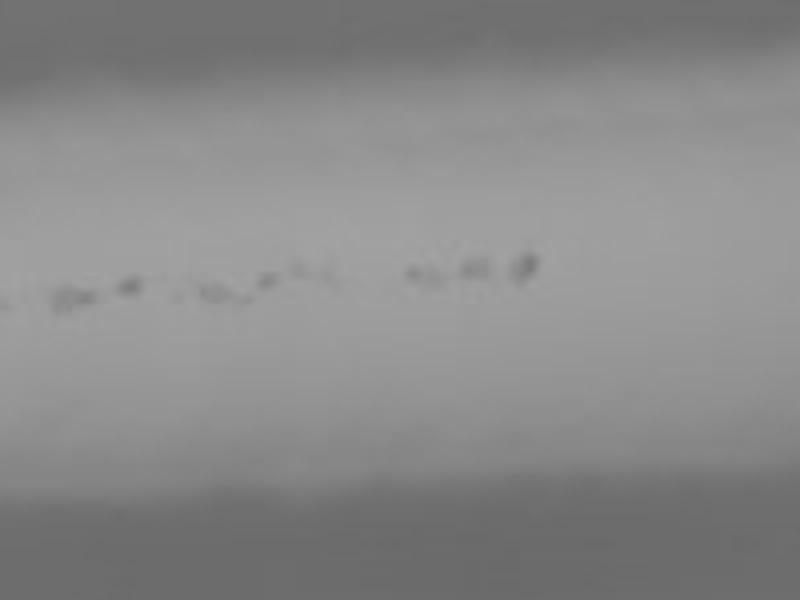defect: (419, 263, 447, 291), (460, 251, 488, 279), (50, 286, 75, 311), (201, 282, 225, 306), (516, 255, 539, 278), (402, 264, 424, 286), (256, 271, 277, 292), (117, 277, 137, 297), (289, 262, 309, 282), (74, 288, 93, 307), (316, 265, 334, 283), (234, 292, 249, 307), (168, 292, 182, 306), (2, 299, 14, 311)
